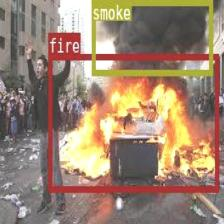fire: (47, 53, 218, 191)
smoke: (91, 0, 211, 75)
